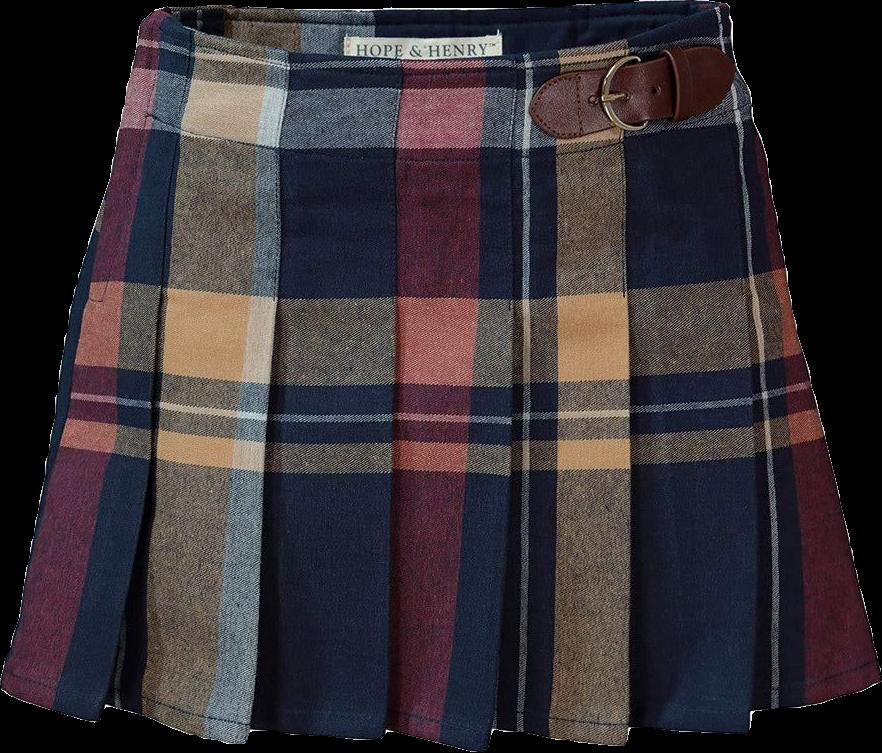Hemline: (0, 676, 881, 752)
Waistline: (151, 1, 731, 64), (120, 99, 755, 155)
